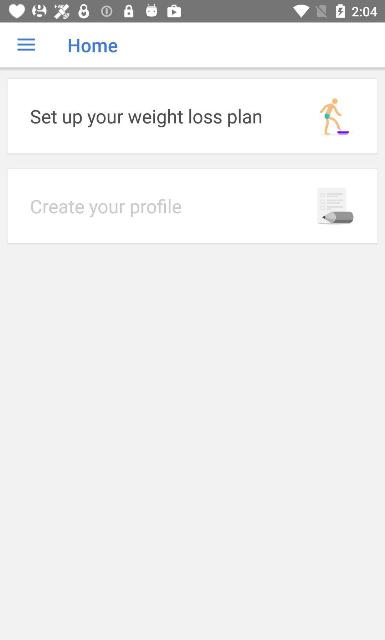Icon: (17, 38, 35, 51)
Image: (316, 187, 353, 225), (320, 98, 348, 136)
List: (0, 69, 385, 255)
Text: (31, 109, 262, 127), (31, 199, 181, 217), (68, 39, 118, 53)
TextImageButton: (7, 168, 378, 244), (7, 78, 378, 154)
Toolbar: (0, 23, 384, 67)
UpperTaskBar: (0, 0, 384, 22)
